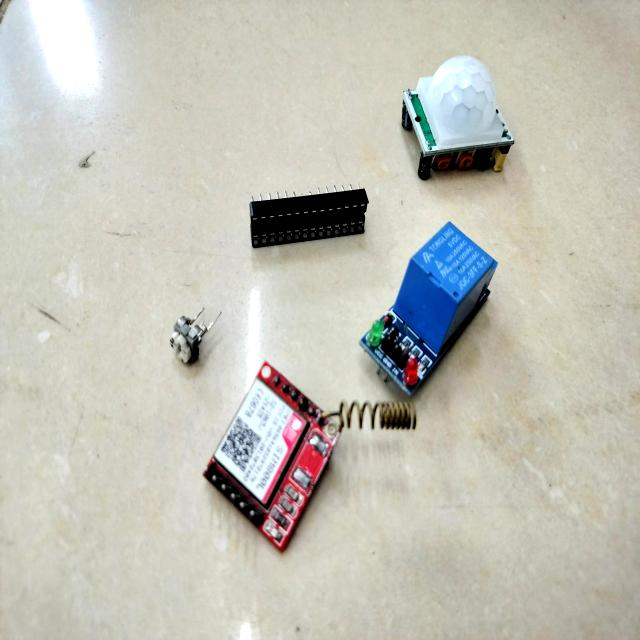GSM-Module: (196, 354, 421, 558)
IC-Base-28-Pin: (247, 175, 371, 258)
Motion-Sensor: (396, 48, 517, 192)
Relay-Module: (356, 214, 502, 408)
Trimmer-Potentiometer: (162, 299, 228, 371)
